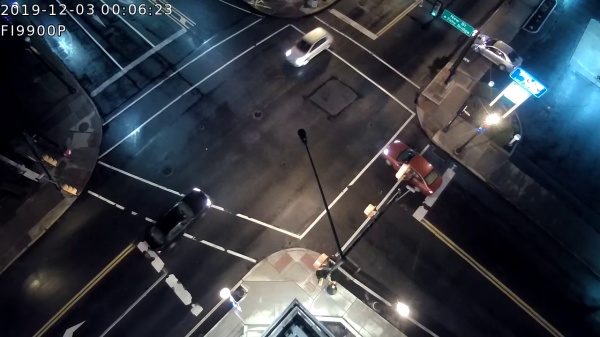car: (142, 185, 209, 248), (379, 137, 439, 197), (469, 30, 525, 73), (283, 25, 333, 70)
